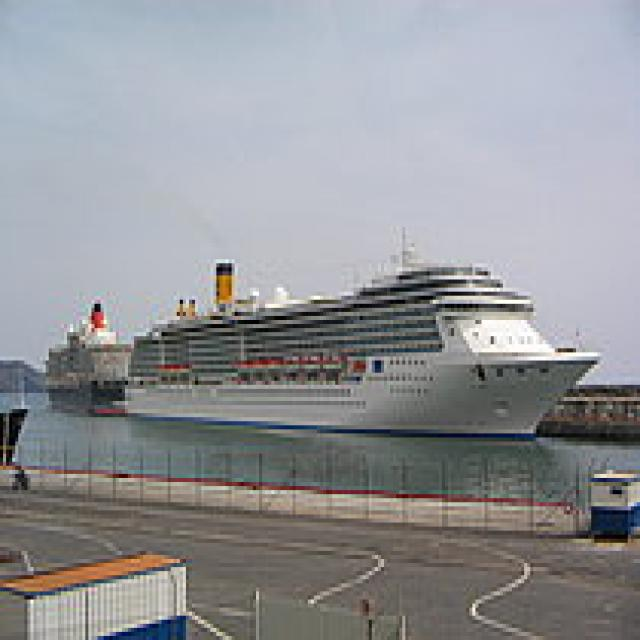Cruise: (116, 227, 600, 441), (40, 292, 134, 413)
